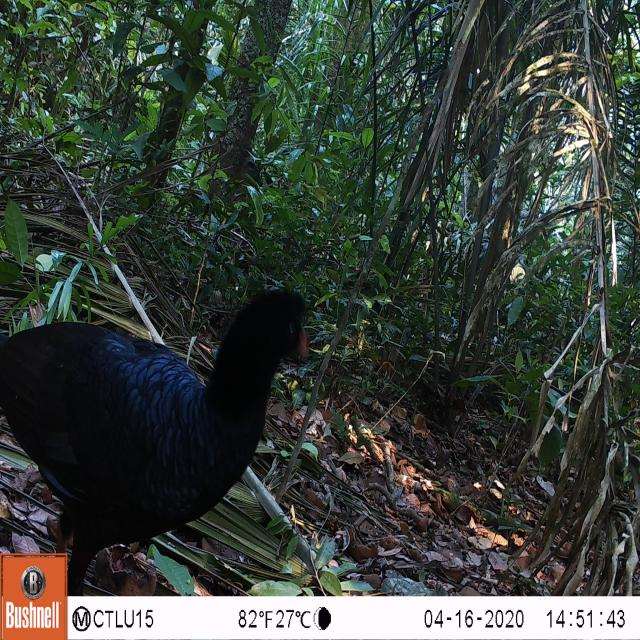Salvins Curassow: (0, 268, 333, 592)
